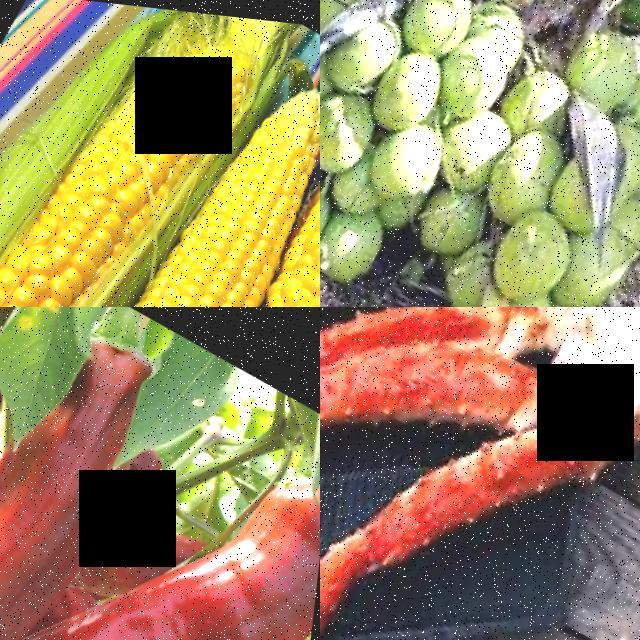chilli: (0, 367, 320, 640), (0, 426, 110, 640)
coconuts: (406, 117, 640, 307), (327, 0, 550, 160), (320, 45, 457, 302)
corn: (20, 32, 320, 307), (41, 0, 265, 266), (116, 87, 320, 307), (0, 165, 131, 307)
crab: (387, 344, 623, 605), (320, 307, 574, 497), (320, 353, 362, 640)
